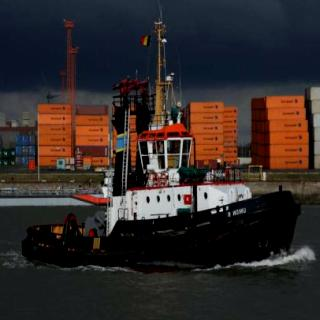Tug Boat: (0, 22, 310, 263)
